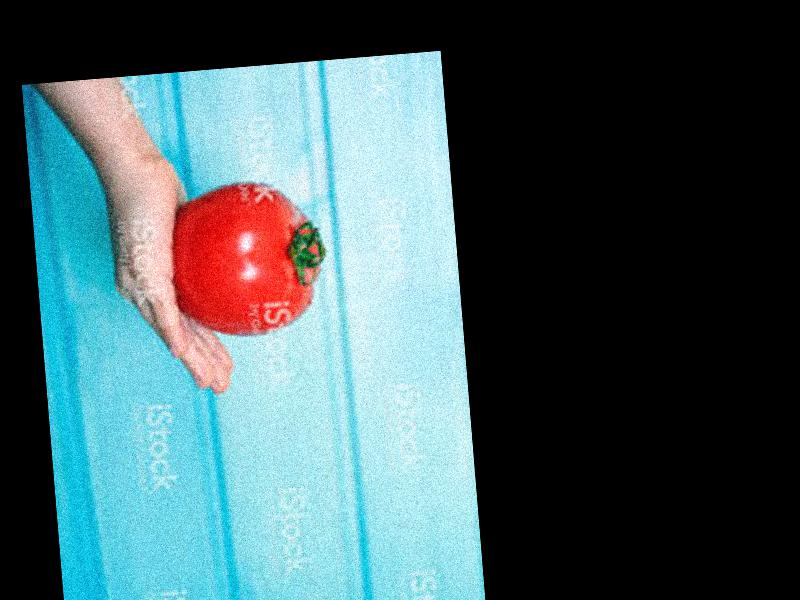Tomato: (166, 179, 329, 342)
